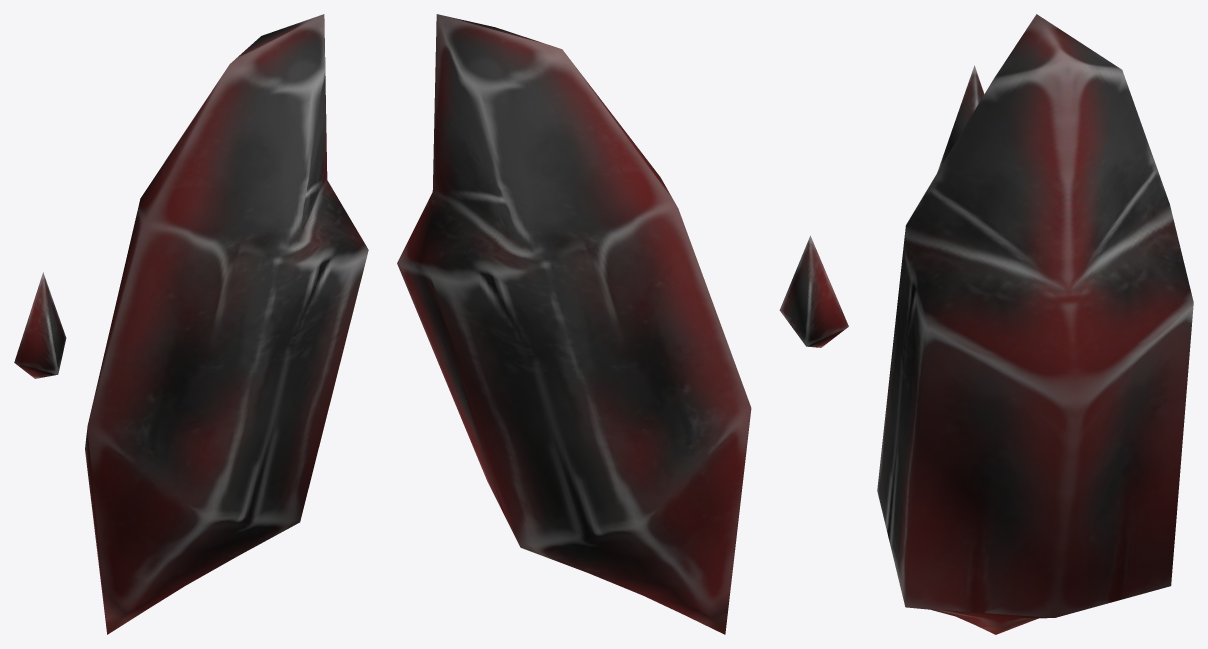
Rendered from Ore_metal_low.glb.
3 renders of one model, left to right at view 1: azimuth 30°, elevation 25°; view 2: azimuth 150°, elevation 25°; view 3: azimuth 270°, elevation 25°, orthographic. The views are drawn at different scales.
Visible parts, largest first — view 1: Ore_metal_low; view 2: Ore_metal_low; view 3: Ore_metal_low.
Part boxes in pixels (<box>): Ore_metal_low: <box>14,14,368,634</box>; Ore_metal_low: <box>397,14,848,634</box>; Ore_metal_low: <box>877,14,1193,634</box>.
Bounding box in the file's own units: 0.1956 × 0.2654 × 0.1039.
Materials: 1 (1 with a texture image).
